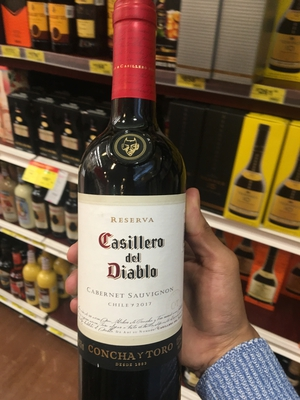casillero del diablo cabernet sauvignon: (67, 16, 210, 394)
